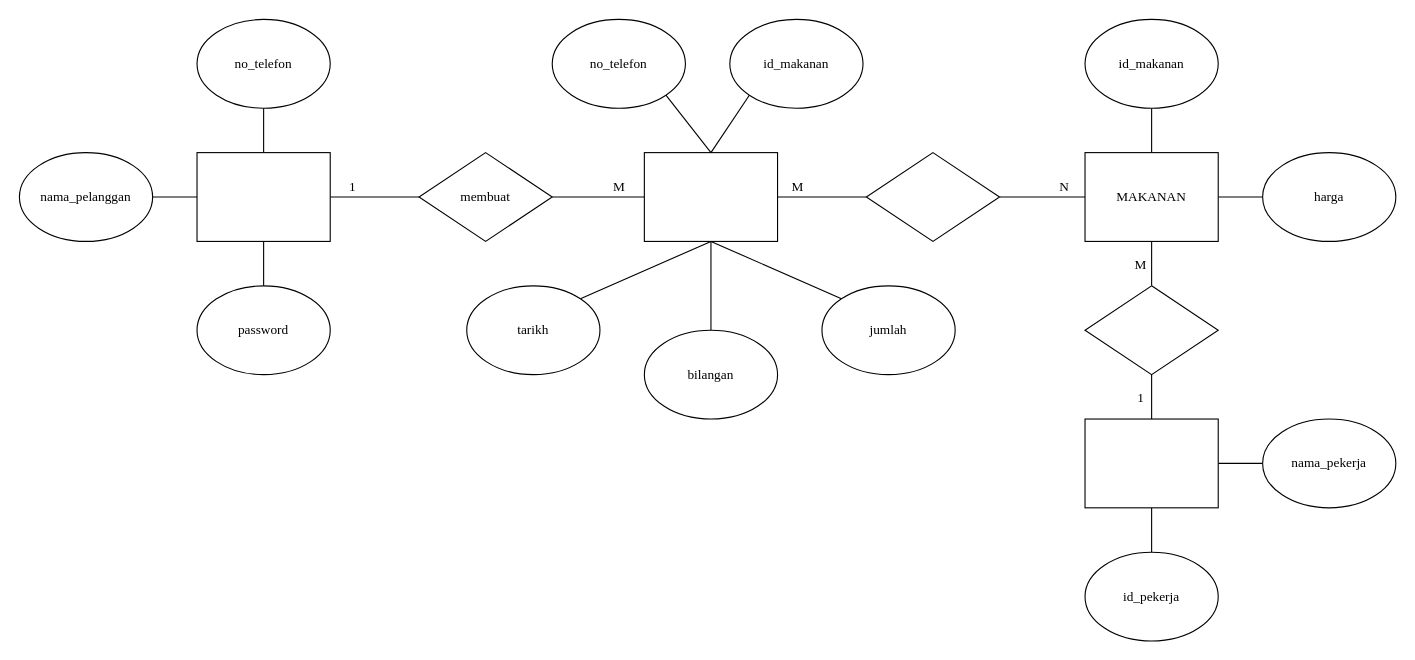
The diagram is 1415 pixels wide and 660 high, and some of its shapes have lost their labels. The shapes that lost their labels are listed below. From the top down, each one's box as (x1, y1, x2, y2) in pixels, then its label:
(196, 152, 330, 241): PELANGGAN
(643, 152, 778, 241): PESANAN
(865, 152, 1000, 241): ditempah
(1084, 285, 1218, 375): mengurus
(1084, 418, 1218, 508): PEKERJA
